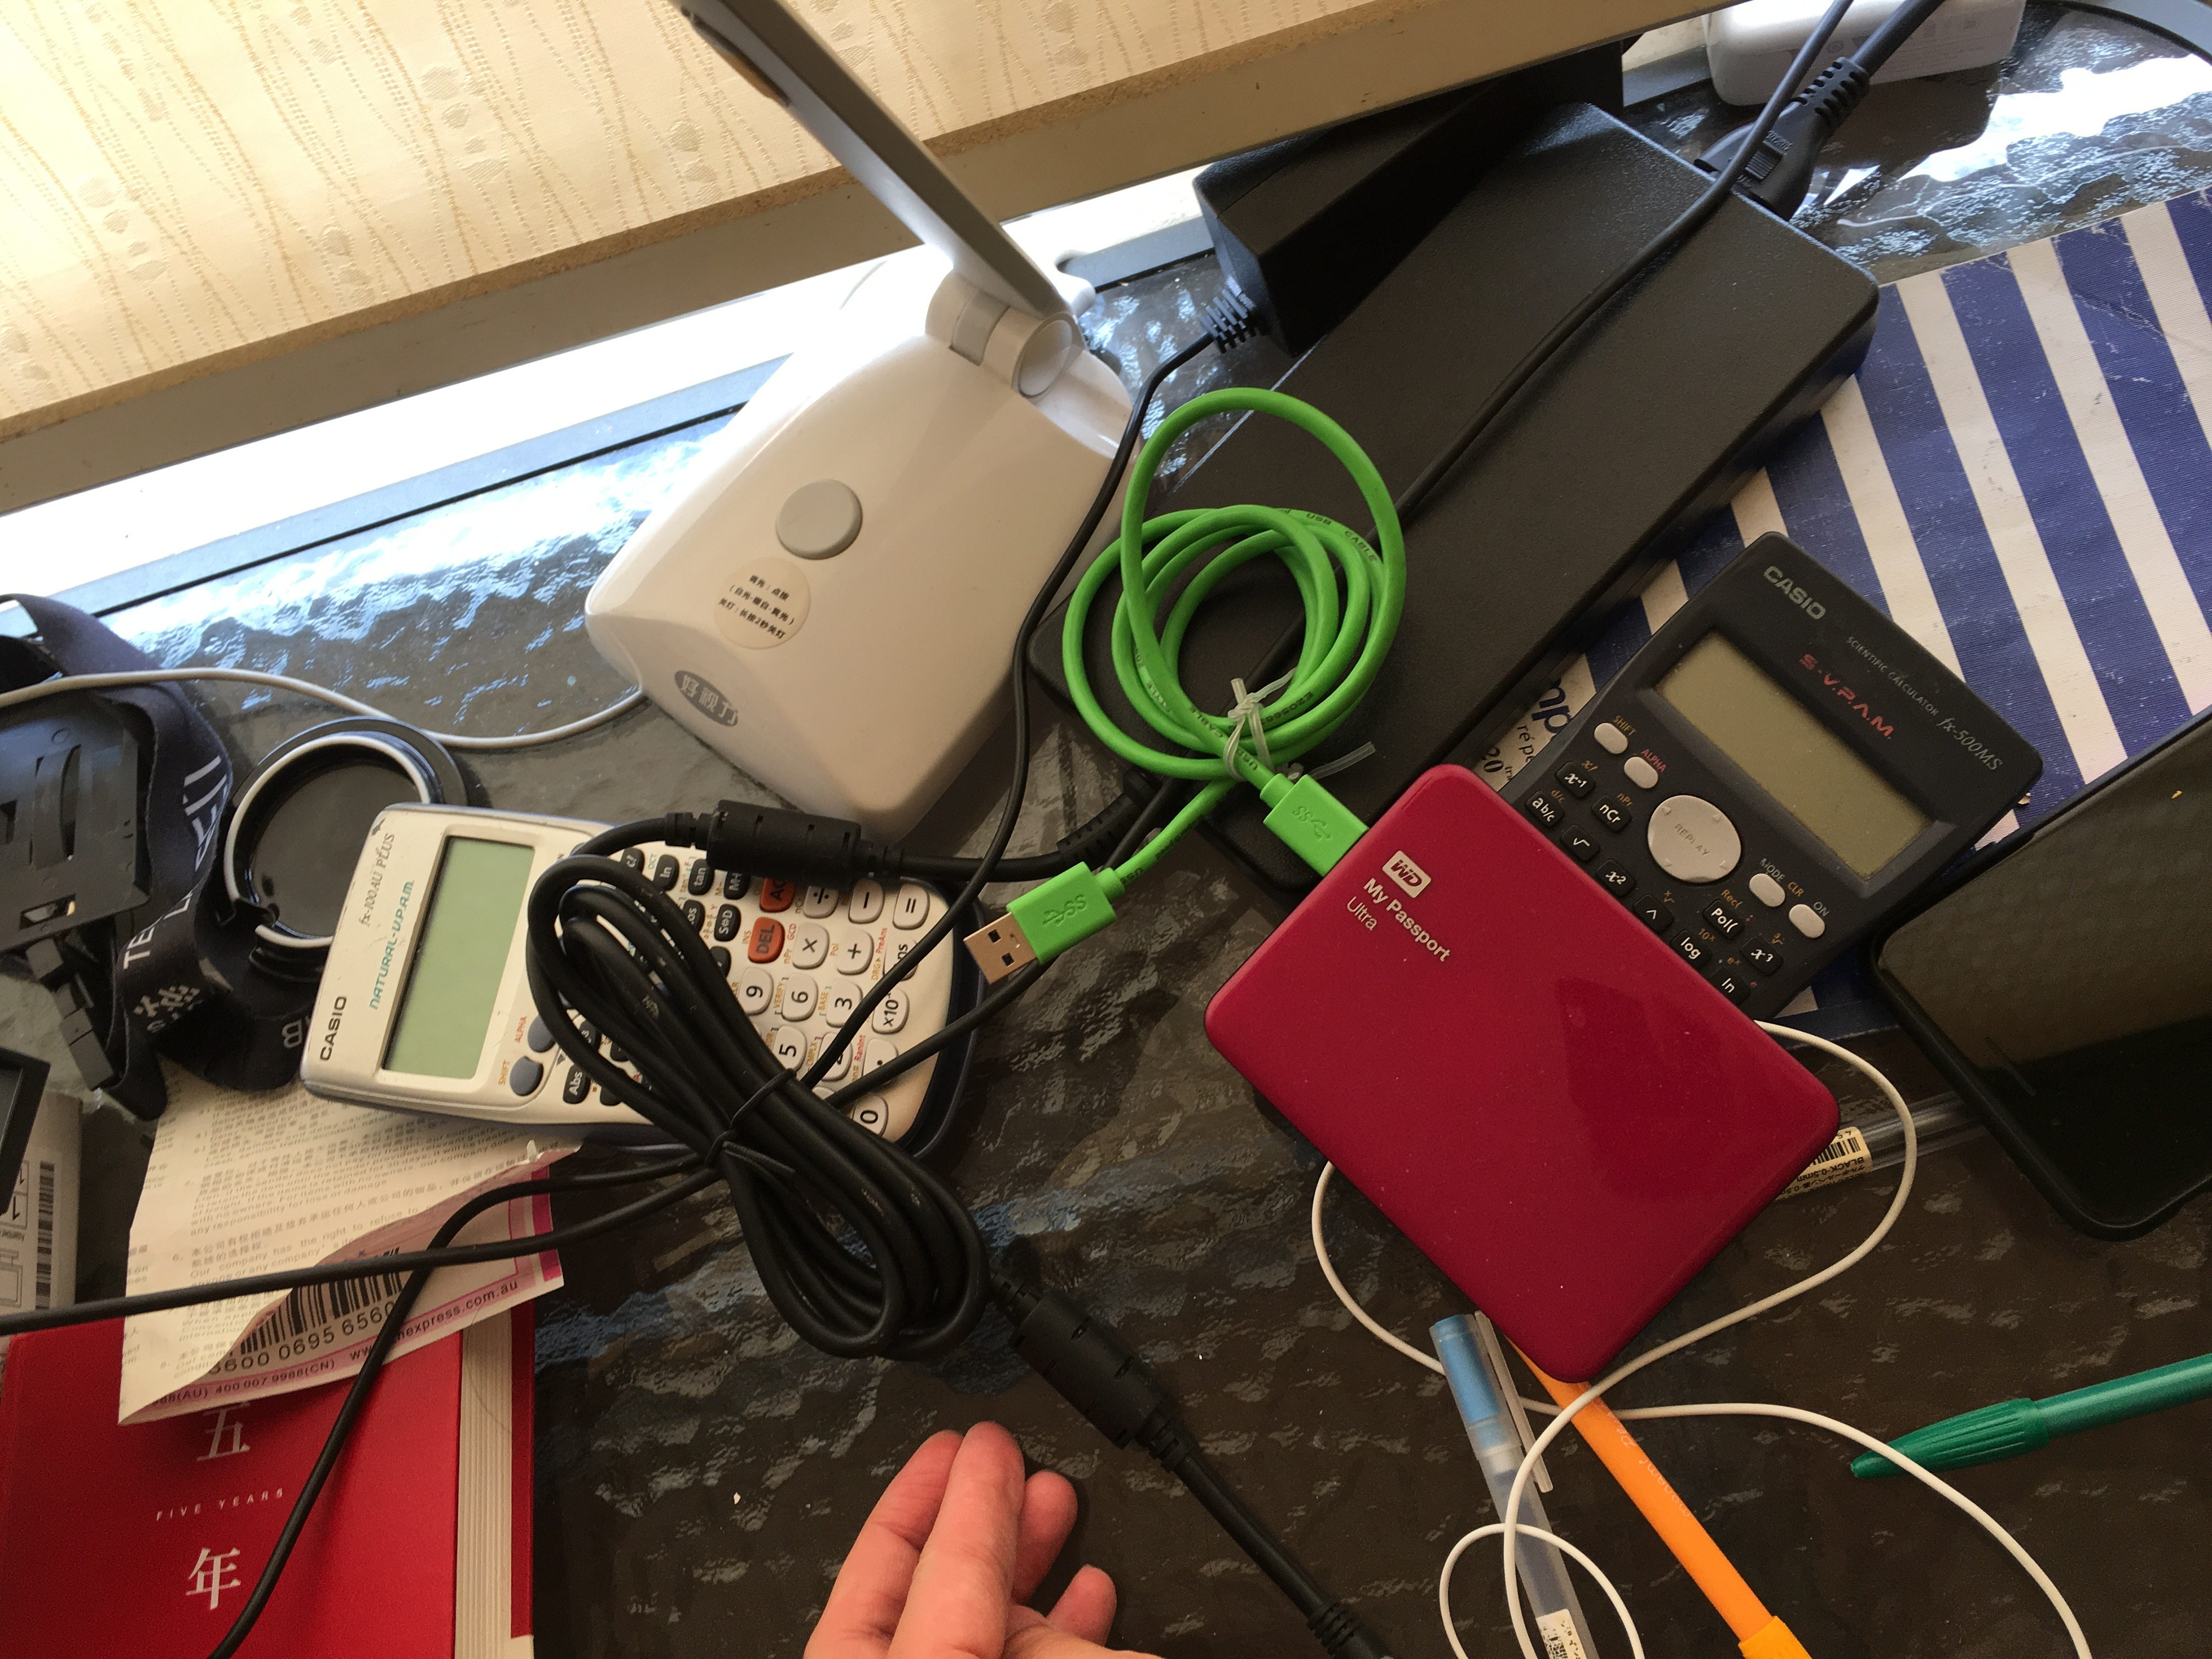Calculator: (1493, 532, 2057, 1025), (286, 796, 989, 1169)
